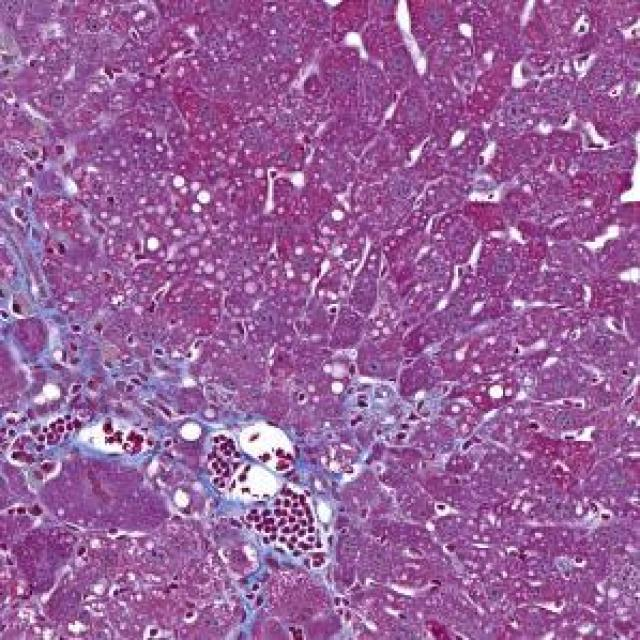fibrosis: (35, 325, 264, 488)
